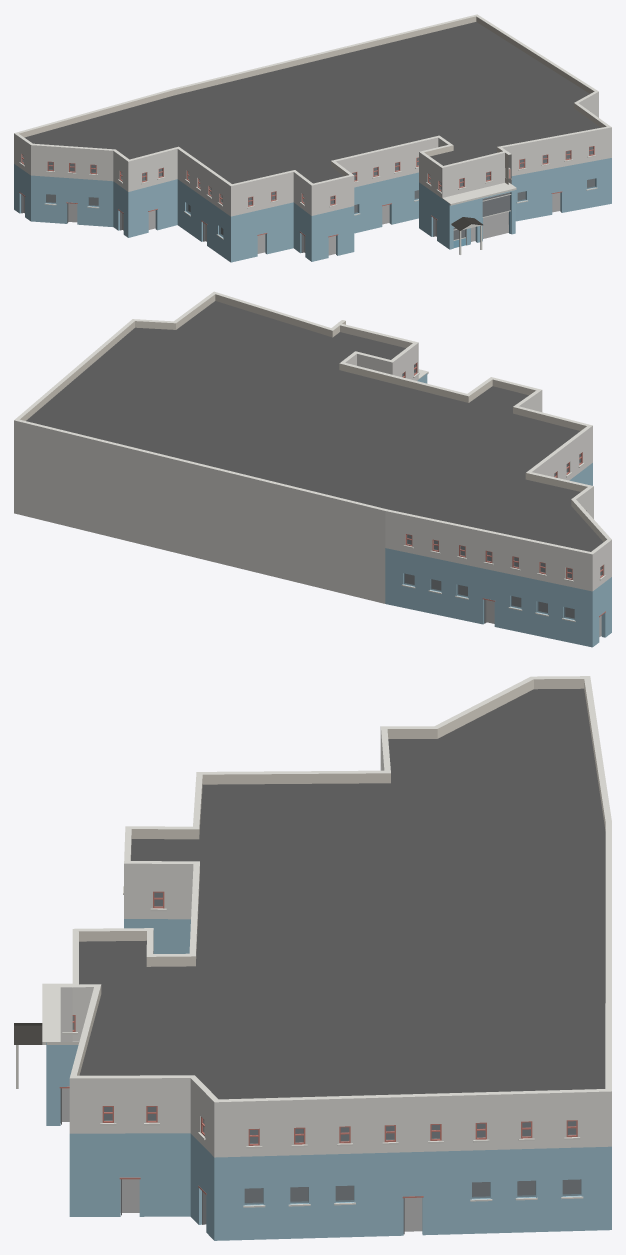
Rendered from exterior.glb.
The picture shows the model from 3 angles, top to bottom: view 1: azimuth 30°, elevation 25°; view 2: azimuth 150°, elevation 25°; view 3: azimuth 270°, elevation 25°; orthographic projection. The views are drawn at different scales.
Visible parts, largest first — view 1: shell, roof, shadow-proxy, glazing, frames, storefront, setback-14-486, trim, hand-ornament; view 2: roof, shell, glazing, shadow-proxy, frames; view 3: roof, shell, shadow-proxy, glazing, frames, setback-14-486, trim, hand-ornament.
Part boxes in pixels (box(x1,y1,x2,y2)): shell: box(14, 14, 611, 262); roof: box(24, 22, 600, 183); shadow-proxy: box(23, 147, 594, 255); glazing: box(22, 146, 595, 239); frames: box(21, 146, 594, 206); storefront: box(19, 191, 562, 252); setback-14-486: box(442, 182, 516, 205); trim: box(19, 155, 597, 239); hand-ornament: box(451, 217, 482, 254); roof: box(26, 301, 603, 551); shell: box(14, 291, 611, 647); glazing: box(402, 364, 602, 619); shadow-proxy: box(405, 535, 601, 636); frames: box(402, 362, 603, 579); roof: box(79, 688, 605, 1099); shell: box(46, 676, 611, 1240); shadow-proxy: box(62, 892, 580, 1231); glazing: box(72, 892, 581, 1204); frames: box(72, 891, 577, 1145); setback-14-486: box(42, 983, 78, 1044); trim: box(62, 886, 583, 1207); hand-ornament: box(14, 1023, 42, 1088).
Bounding box in the file's own units: 53.34 × 8.08 × 31.59.
